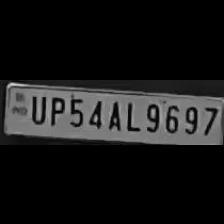4: (84, 95, 104, 129)
5: (65, 93, 85, 126)
6: (162, 99, 180, 133)
7: (200, 100, 218, 136)
9: (141, 98, 161, 132), (180, 100, 198, 134)
A: (104, 96, 122, 130)
L: (122, 97, 140, 131)
P: (45, 92, 65, 125)
U: (27, 92, 46, 124)
